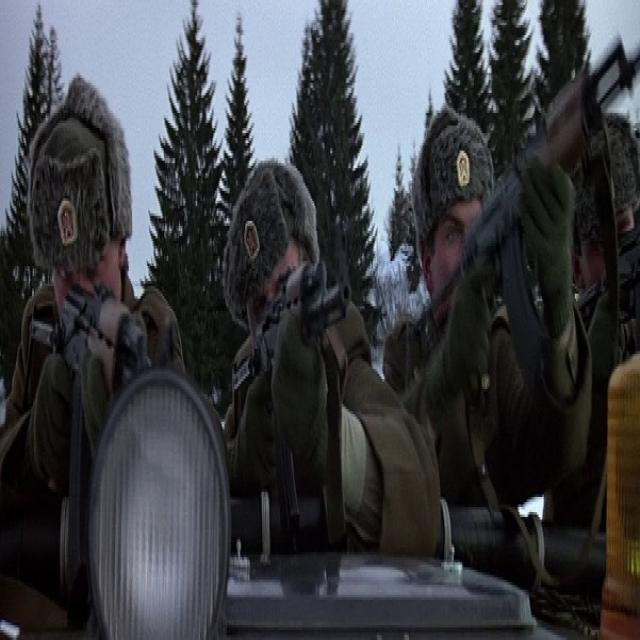rifle: (396, 37, 640, 387), (22, 292, 148, 591), (227, 252, 354, 536)
